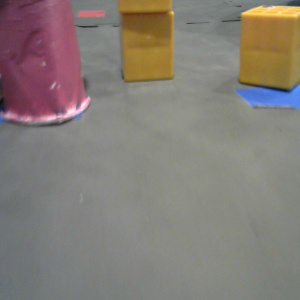middle: (1, 1, 90, 125)
